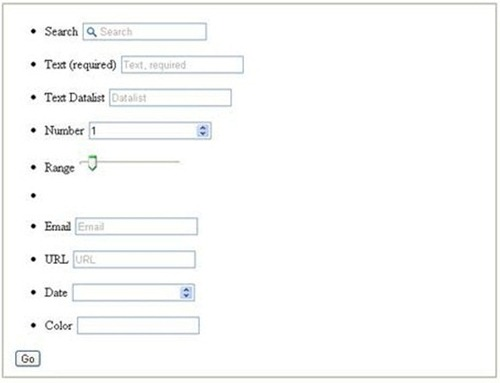_form_: (1, 1, 416, 383)
button: (15, 350, 40, 367)
field: (106, 87, 233, 108), (70, 250, 197, 271), (118, 54, 245, 74), (72, 216, 198, 236), (81, 22, 208, 41), (75, 316, 201, 335)
field_with_label: (45, 52, 246, 76), (44, 86, 234, 109), (45, 119, 214, 143), (44, 20, 211, 43), (46, 249, 199, 273), (45, 281, 197, 304), (44, 315, 202, 337), (45, 215, 200, 237)
select: (87, 121, 212, 141), (71, 283, 196, 302)
